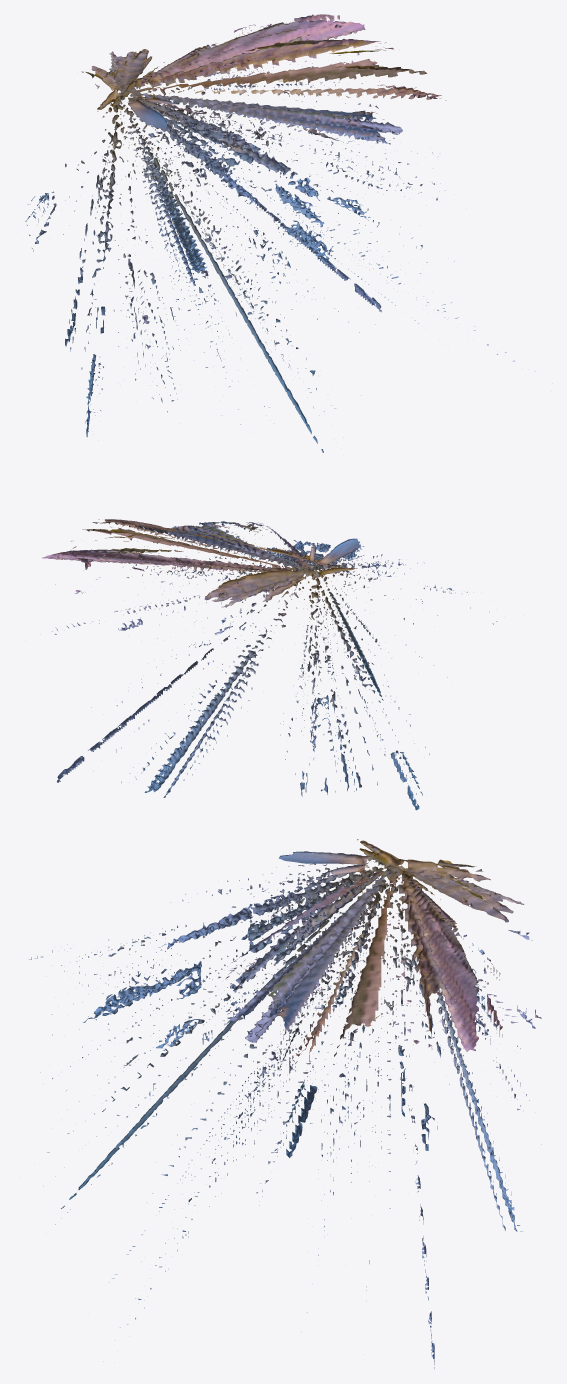
Rendered from paris-collider.glb.
3 views of the same model, one above another, from view 1: azimuth 30°, elevation 25°; view 2: azimuth 150°, elevation 25°; view 3: azimuth 270°, elevation 25° (orthographic). The views are drawn at different scales.
Parts seen in each view (by area): view 1: world; view 2: world; view 3: world.
Boxes of the visible parts, x1,y1,x2,y2 form: world: (25,14,552,452); world: (40,519,497,810); world: (29,839,541,1368).
Bounding box in the file's own units: 297 × 190 × 261.
